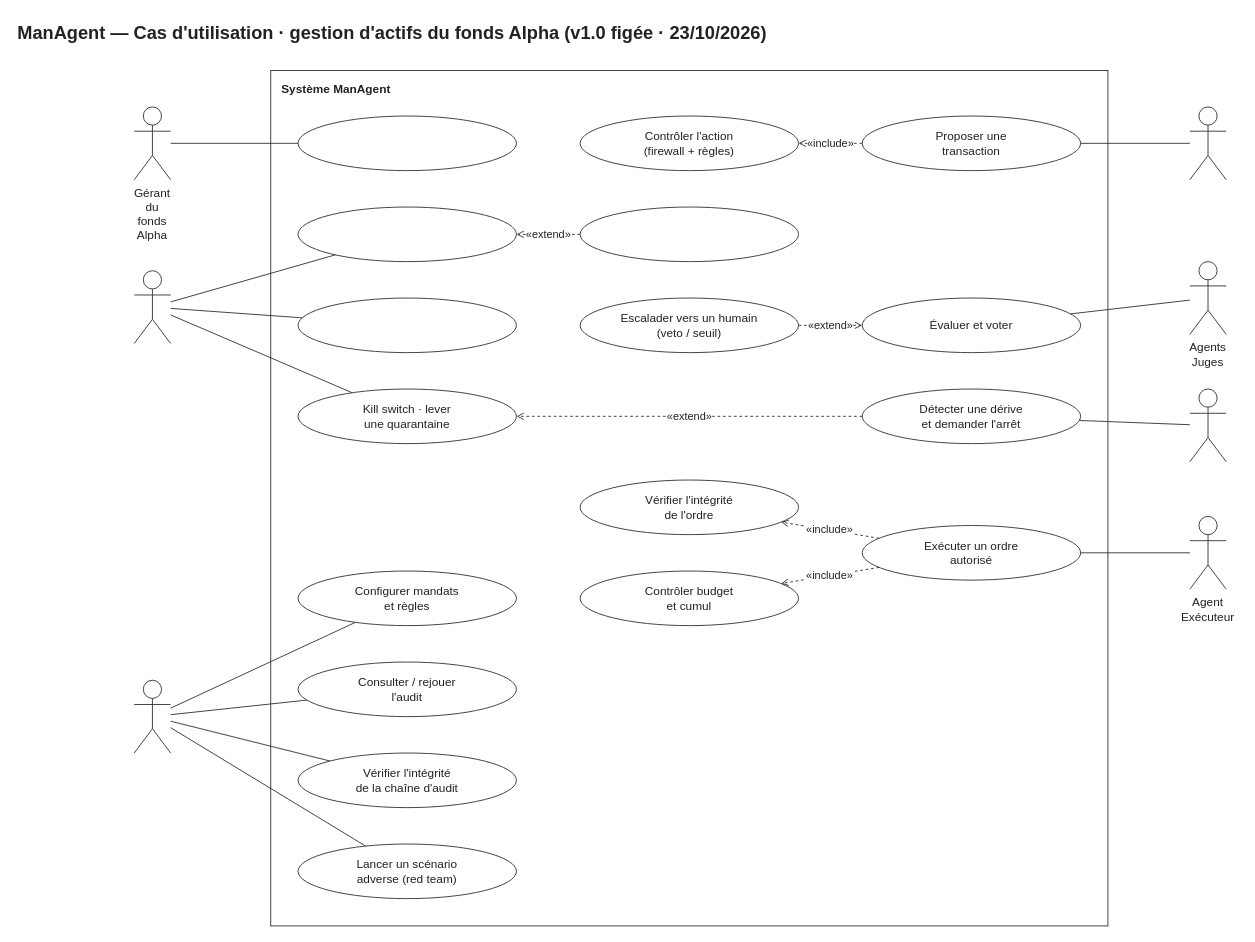
The diagram is 1255 pixels wide and 942 high, and some of its shapes have lost their labels. The centre of each missing label's shape, as x and y in pixels:
"Agent Proposer" belongs at point 1207,143.
"Approuver / rejeter (signé)" belongs at point 406,234.
"Conformité / Auditeur" belongs at point 152,716.
"Demander une fiche explicative" belongs at point 689,234.
"Fixer un objectif d'allocation" belongs at point 406,143.
"Superviseur humain" belongs at point 152,307.
"Superviseur méta-agent" belongs at point 1207,425.
"Surveiller la tour de contrôle" belongs at point 406,325.
